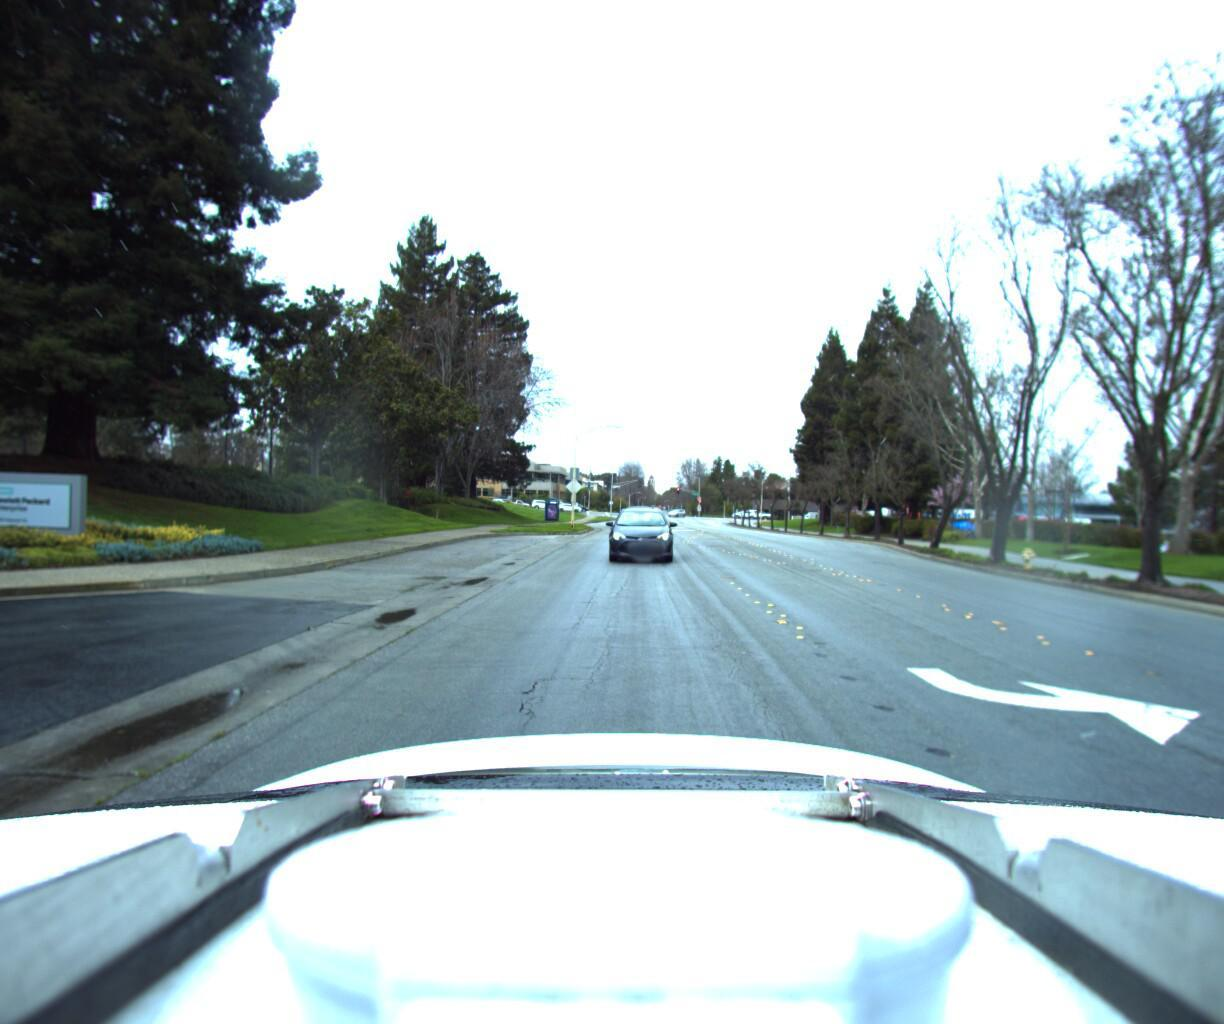car: (599, 501, 675, 566)
